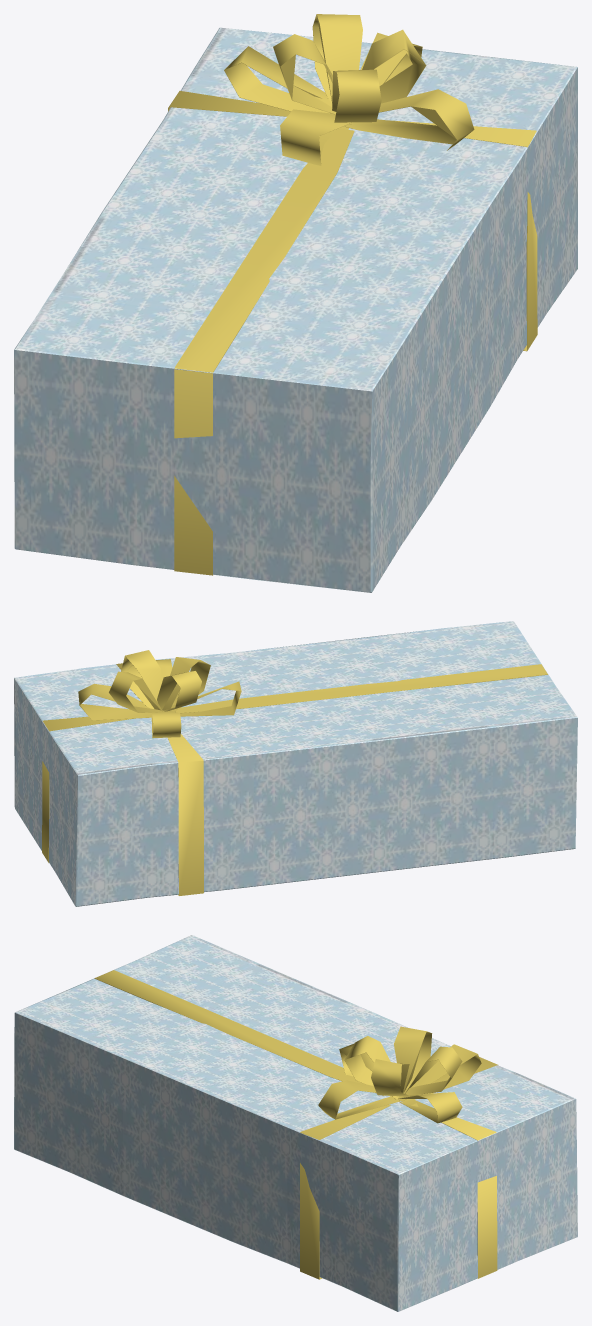
The model's file is Gift_box.glb.
3 views of the same model, one above another, from view 1: azimuth 30°, elevation 25°; view 2: azimuth 150°, elevation 25°; view 3: azimuth 270°, elevation 25° (orthographic). The views are drawn at different scales.
Visible parts, largest first — view 1: 3d66-PolyMeshObject-21941471-002, 3d66-Editable_Poly-21941471-002; view 2: 3d66-PolyMeshObject-21941471-002, 3d66-Editable_Poly-21941471-002; view 3: 3d66-PolyMeshObject-21941471-002, 3d66-Editable_Poly-21941471-002.
Boxes of the visible parts, x1,y1,x2,y2 form: 3d66-PolyMeshObject-21941471-002: [14, 27, 577, 592]; 3d66-Editable_Poly-21941471-002: [168, 14, 537, 575]; 3d66-PolyMeshObject-21941471-002: [14, 621, 577, 906]; 3d66-Editable_Poly-21941471-002: [42, 650, 547, 895]; 3d66-PolyMeshObject-21941471-002: [14, 935, 577, 1311]; 3d66-Editable_Poly-21941471-002: [94, 970, 498, 1279].
Bounding box in the file's own units: 0.508 × 0.1932 × 0.5078.
Materials: 2 (1 with a texture image).
